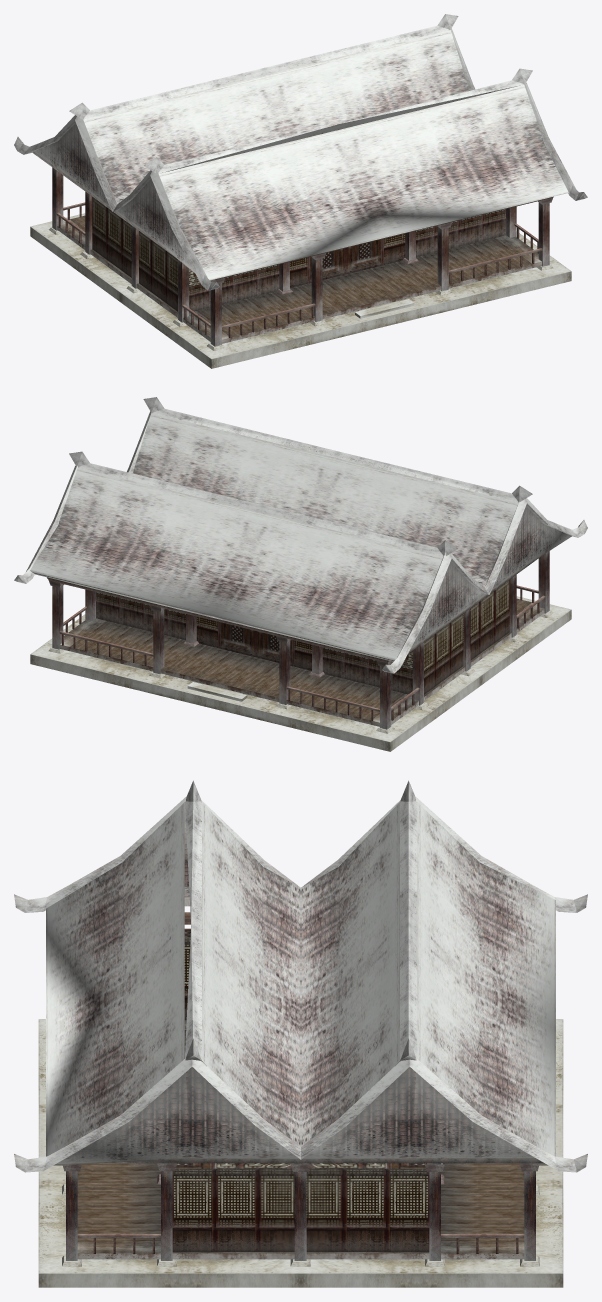
The model's file is snow-033-guesthouse-01_lod_01.fbx.
The picture shows the model from 3 angles, top to bottom: view 1: azimuth 30°, elevation 25°; view 2: azimuth 150°, elevation 25°; view 3: azimuth 270°, elevation 25°; orthographic projection. The views are drawn at different scales.
Parts seen in each view (by area): view 1: desert-033-guesthouse-01, ob-033-guesthouse-02; view 2: desert-033-guesthouse-01, ob-033-guesthouse-02; view 3: desert-033-guesthouse-01, ob-033-guesthouse-02.
Part boxes in pixels (box(x1,y1,x2,y2)): desert-033-guesthouse-01: box(14, 14, 587, 318); ob-033-guesthouse-02: box(30, 167, 571, 368); desert-033-guesthouse-01: box(14, 397, 587, 701); ob-033-guesthouse-02: box(30, 551, 571, 751); desert-033-guesthouse-01: box(14, 780, 587, 1184); ob-033-guesthouse-02: box(38, 912, 563, 1287).
Size of the model in its own units: 20.25 by 8.59 by 17.86.
